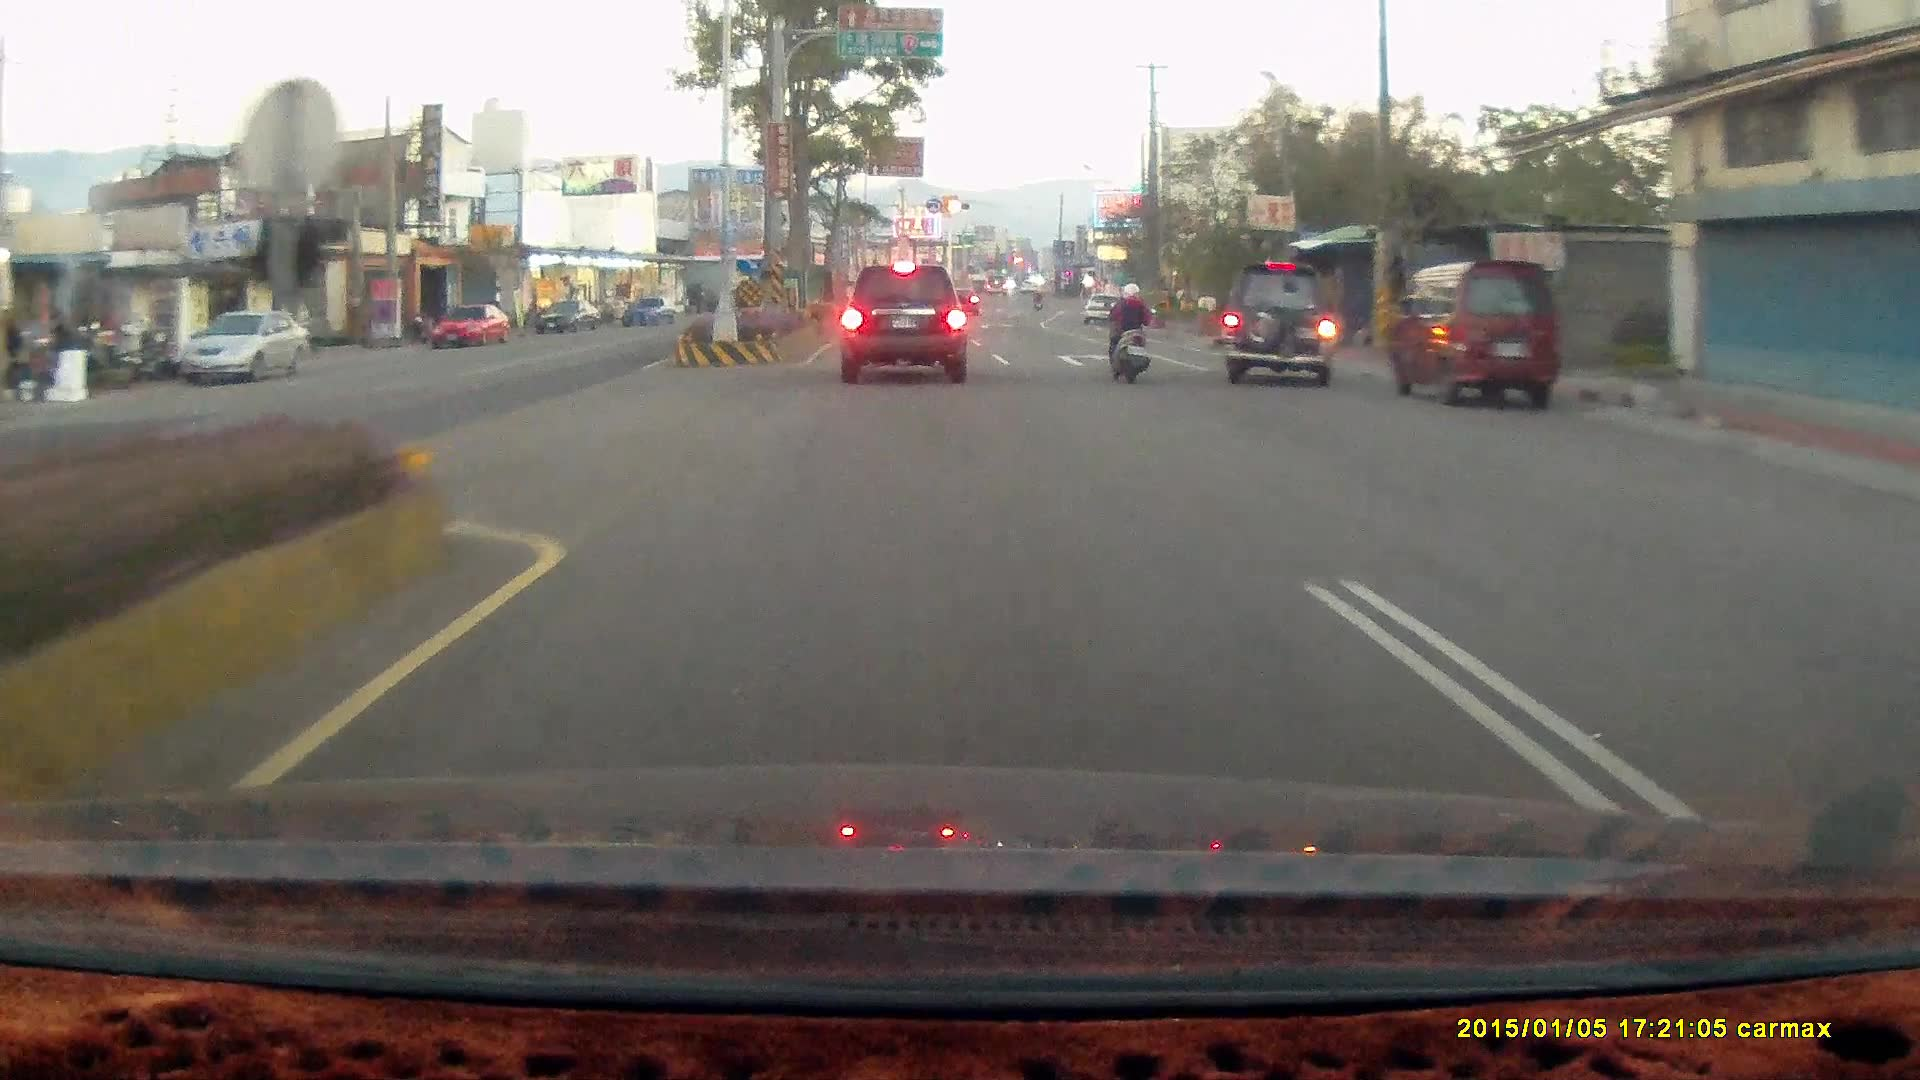pedestrian: (43, 305, 74, 379)
rider: (1105, 280, 1152, 385)
vehicle: (1384, 259, 1561, 409), (1394, 264, 1566, 412), (1218, 268, 1348, 390), (839, 262, 967, 382), (1219, 260, 1339, 384), (177, 310, 308, 390), (176, 309, 309, 386), (1896, 493, 1920, 836), (1883, 528, 1920, 690), (430, 302, 511, 348), (429, 304, 512, 350), (1082, 293, 1125, 324)
